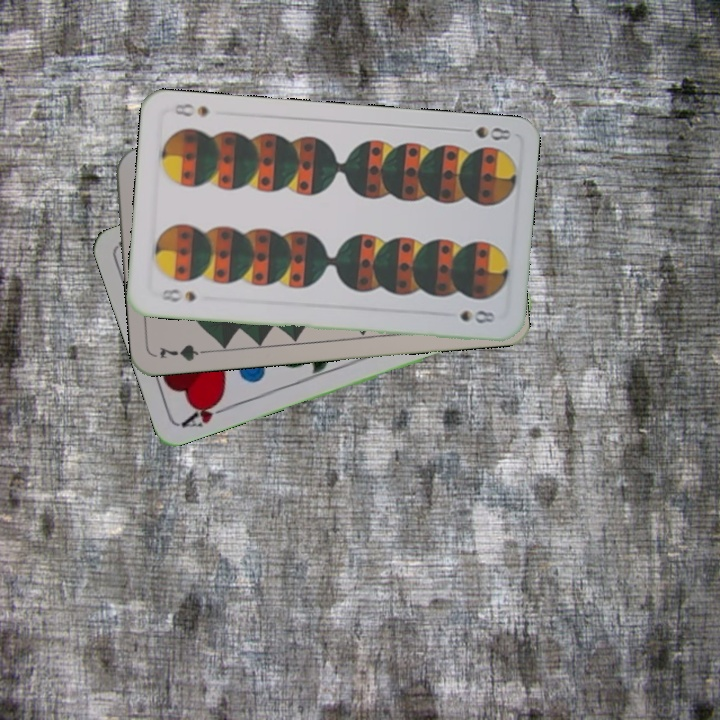G7: (155, 340, 214, 364)
HA: (178, 393, 235, 430)
S8: (455, 122, 514, 143), (154, 284, 198, 305)
